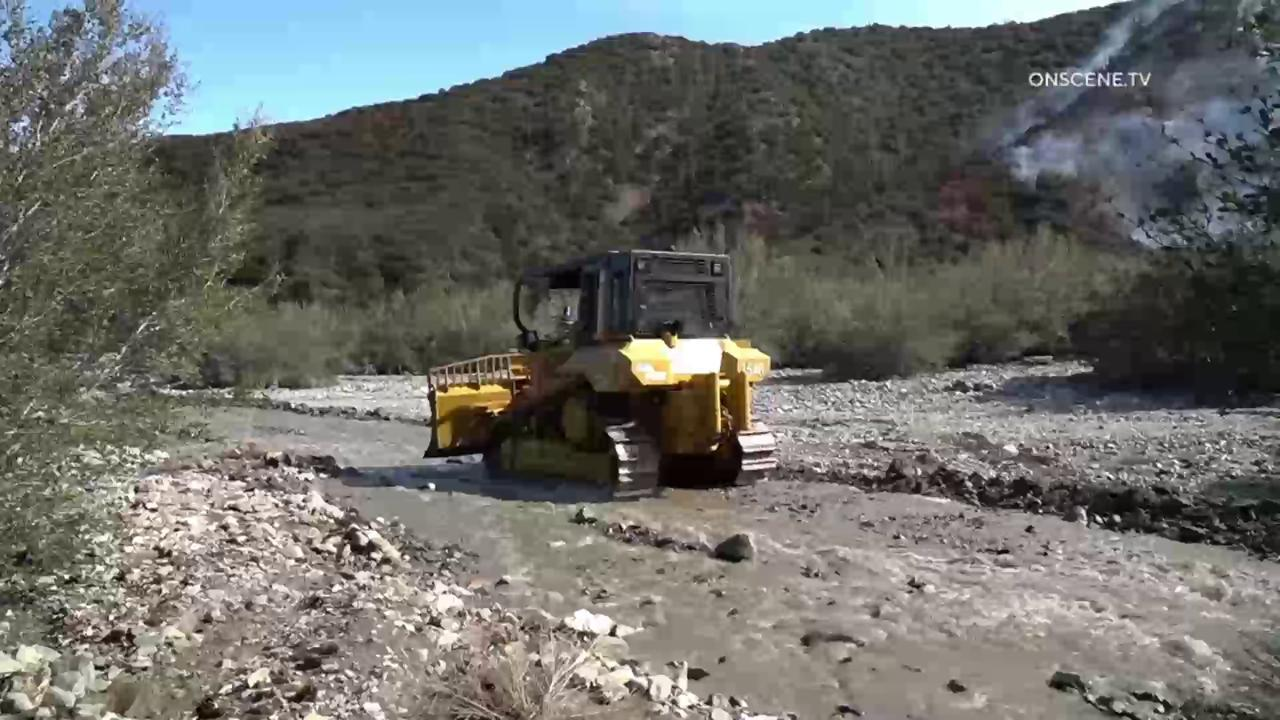smoke: (987, 1, 1280, 250)
